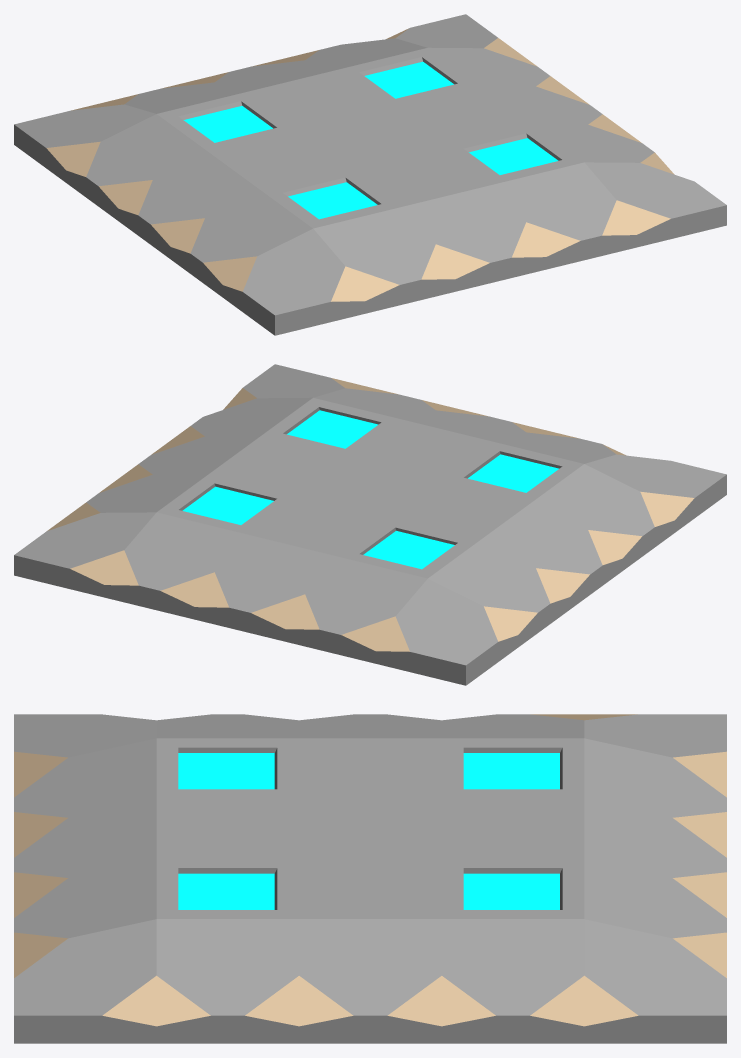
File: platforme_1.glb
3 renders of one model, top to bottom at view 1: azimuth 30°, elevation 25°; view 2: azimuth 150°, elevation 25°; view 3: azimuth 270°, elevation 25°, orthographic. The views are drawn at different scales.
Visible parts, largest first — view 1: Cube.004; view 2: Cube.004; view 3: Cube.004.
Boxes of the visible parts, x1=… form: Cube.004: x1=14, y1=14, x2=726, y2=335; Cube.004: x1=14, y1=364, x2=726, y2=685; Cube.004: x1=14, y1=714, x2=726, y2=1043.
Size of the model in its own units: 8.85 by 0.8786 by 8.85.
